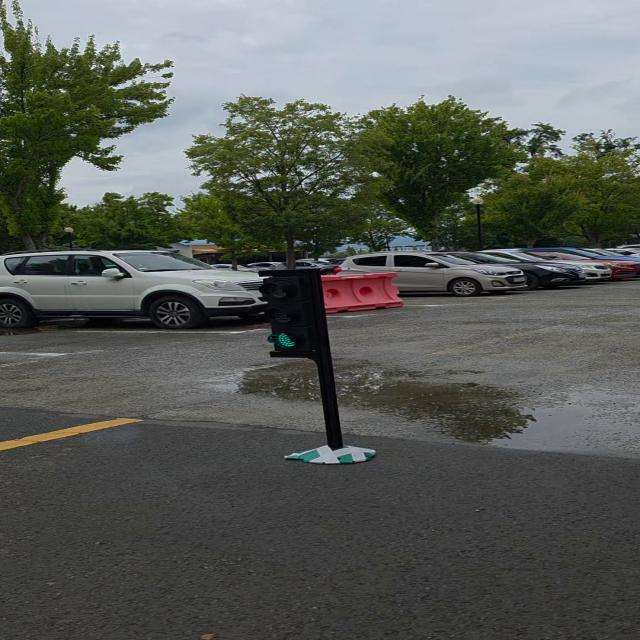green: (262, 272, 326, 361)
